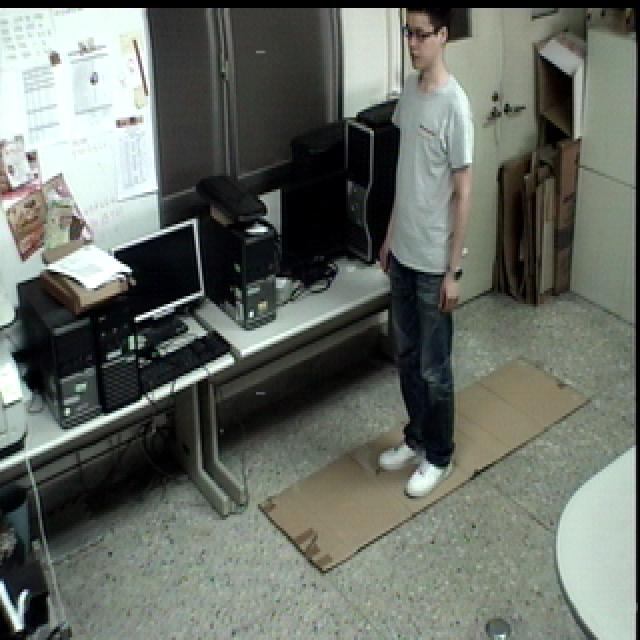stand: (367, 0, 484, 507)
